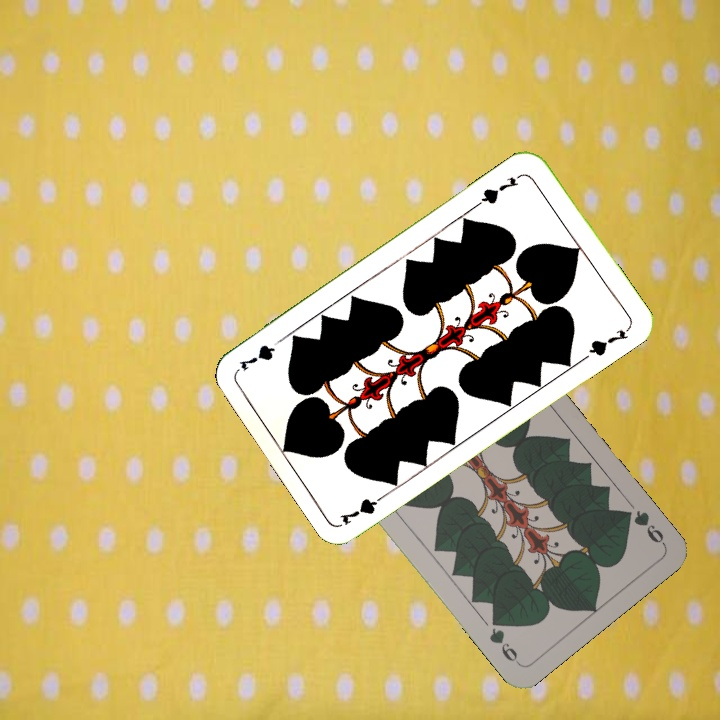G7: (336, 487, 392, 528), (473, 169, 526, 208)
G9: (617, 505, 668, 548)
